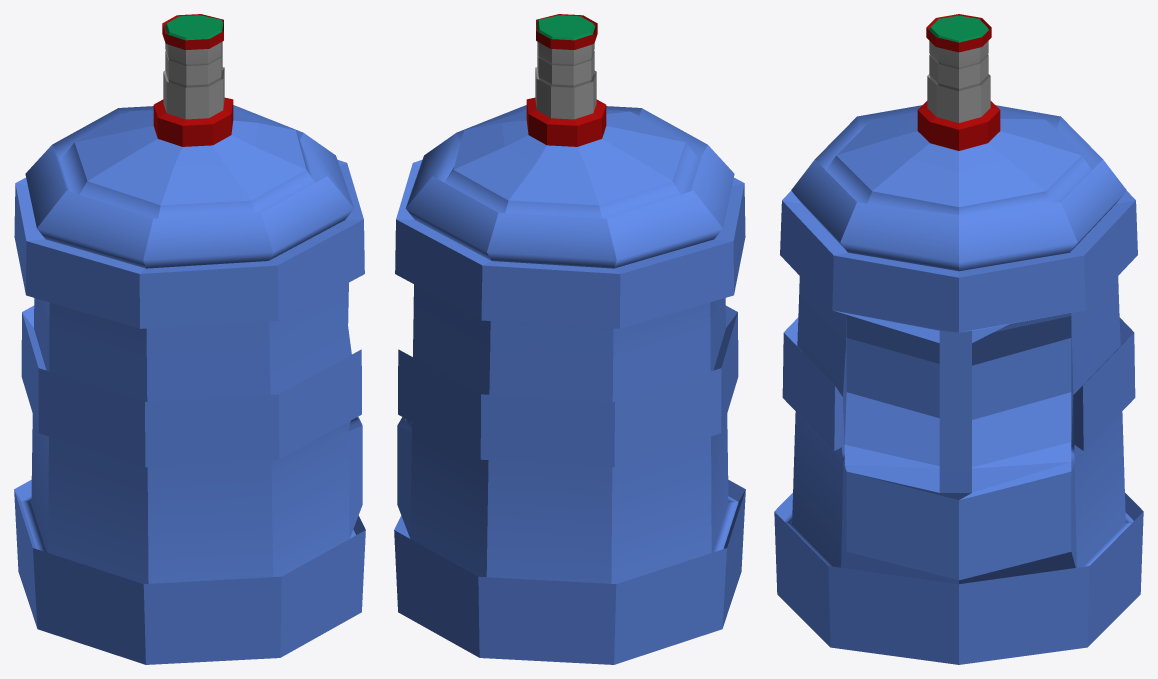
Rendered from Bidon.fbx.
3 views of the same model, side by side, from view 1: azimuth 30°, elevation 25°; view 2: azimuth 150°, elevation 25°; view 3: azimuth 270°, elevation 25° (orthographic).
Parts seen in each view (by area): view 1: pCylinder2; view 2: pCylinder2; view 3: pCylinder2.
Boxes of the visible parts, left/top/right/bottom form: pCylinder2: left=14, top=14, right=365, bottom=664; pCylinder2: left=394, top=14, right=745, bottom=664; pCylinder2: left=774, top=14, right=1143, bottom=664.
Size of the model in its own units: 3.25 by 5.45 by 3.21.
